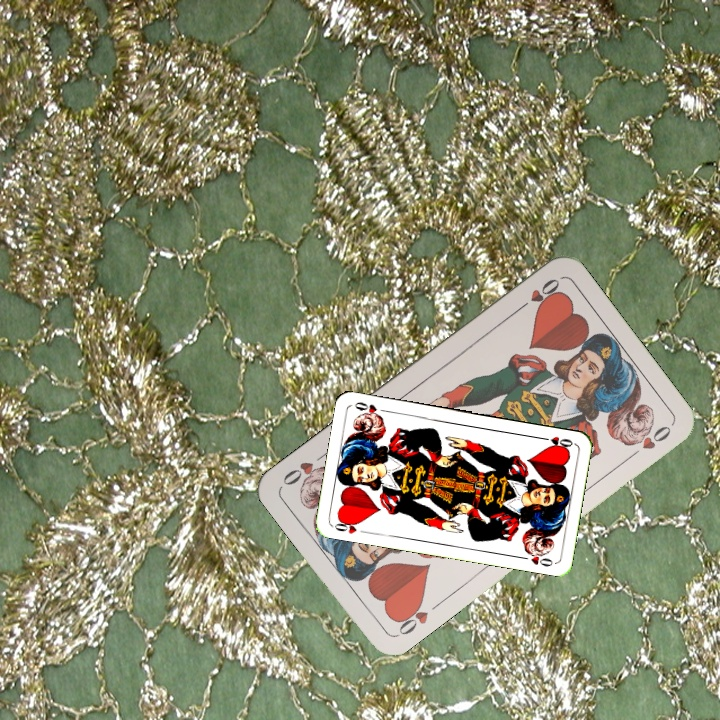HO: (511, 274, 563, 315), (390, 596, 431, 639), (330, 515, 370, 536), (536, 432, 575, 451)
